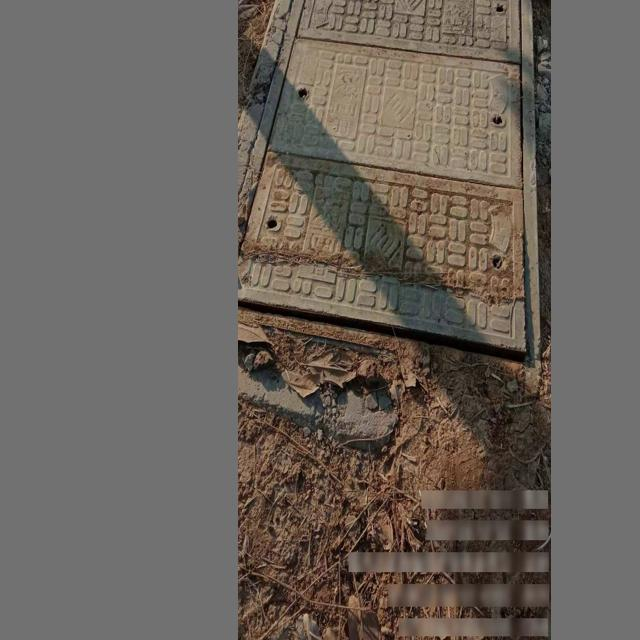circle: (237, 0, 547, 379)
